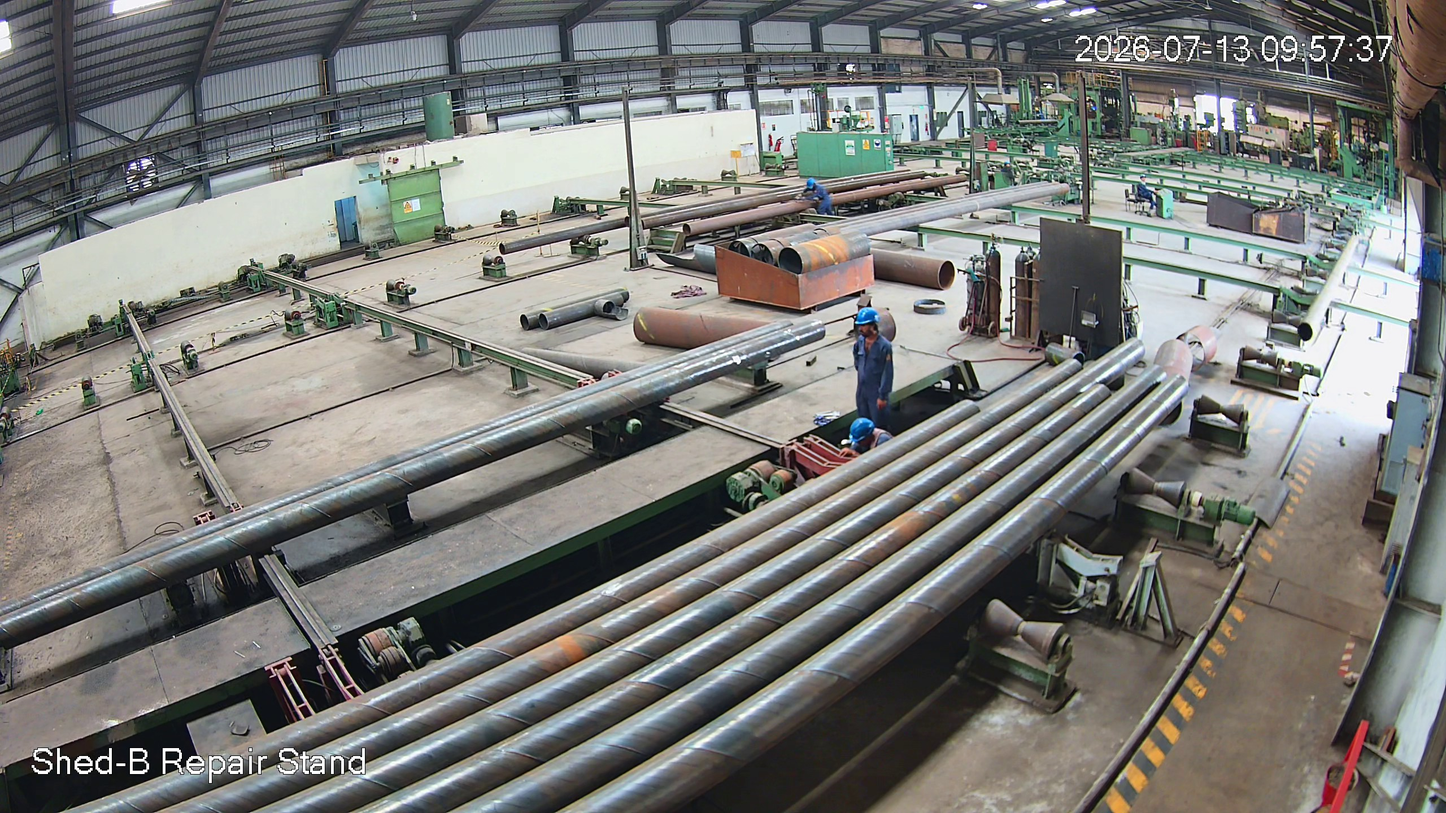Helmet: (844, 414, 884, 453), (854, 306, 889, 343)
Person: (848, 307, 894, 426), (840, 416, 895, 461)
